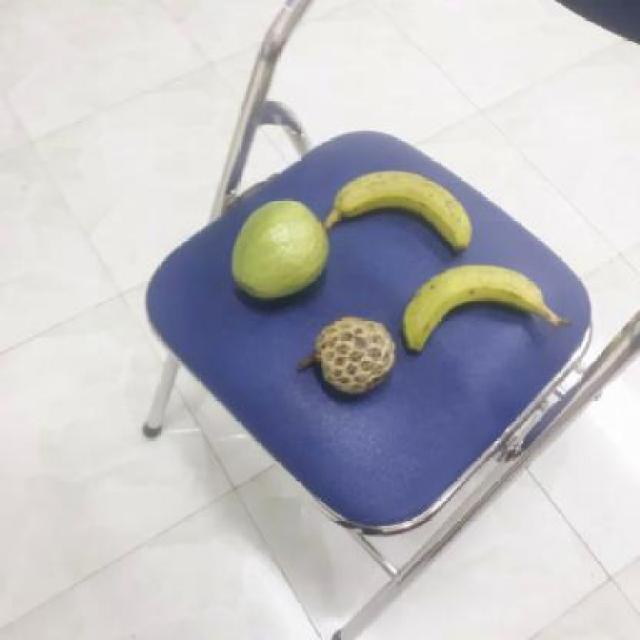banana: (393, 264, 544, 358), (324, 172, 471, 262)
sugar apple: (300, 316, 395, 395)
